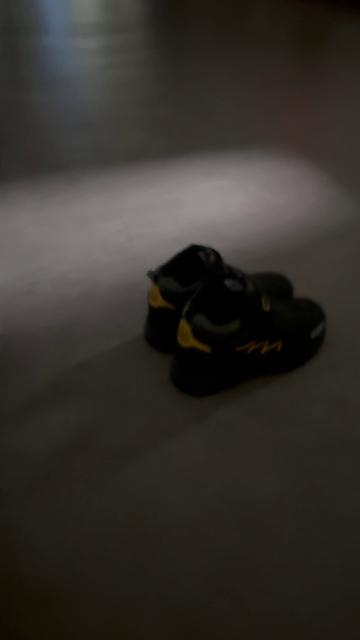shoe_worn: (168, 288, 328, 401), (142, 243, 295, 358)
